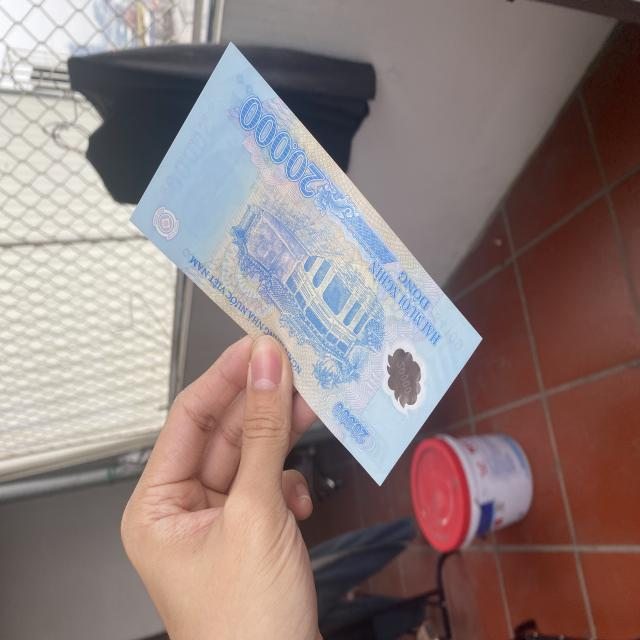20 000 VND: (129, 41, 484, 488)
